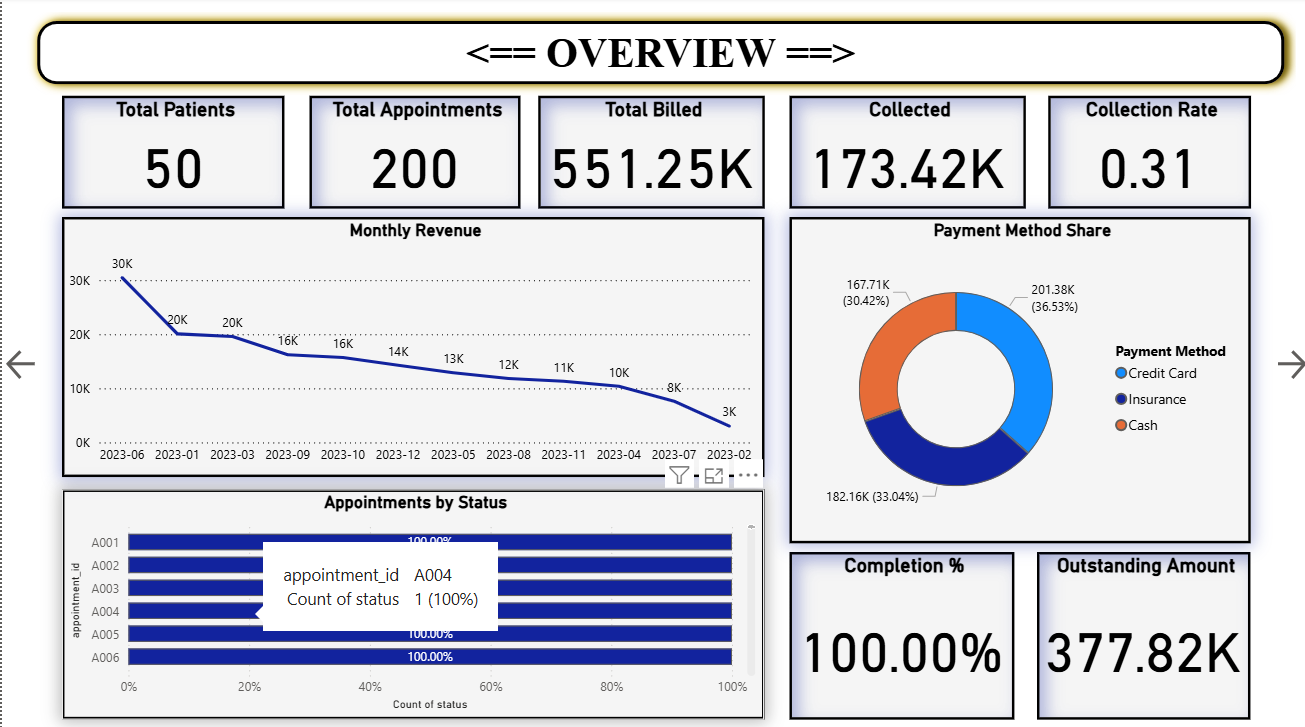

This screenshot's page, from the dashboard's own definition file:
{"tool":"powerbi","page":{"name":"Overview","canvas":[1280,720],"ordinal":1},"visuals":[{"type":"card","title":"Total Patients","fields":{"Values":["measurse.Total Patients"]},"box":[58.7,96.6,217.7,110.1],"z":0},{"type":"card","title":"Total Appointments","fields":{"Values":["measurse.Total Appointments"]},"box":[300.8,96.6,206.7,110.1],"z":1000},{"type":"card","title":"Completion %","fields":{"Values":["measurse.Completed Appointments"]},"box":[770.4,542.9,220.1,163.9],"z":2000},{"type":"card","title":"Total Billed","fields":{"Values":["measurse.Total Billed"]},"box":[524.6,96.6,221.3,110.1],"z":3000},{"type":"card","title":"Collected","fields":{"Values":["measurse.Total Collected"]},"box":[770.4,96.6,231.1,110.1],"z":4000},{"type":"card","title":"Outstanding Amount","fields":{"Values":["measurse.Outstanding Amount"]},"box":[1012.5,542.9,209.1,163.9],"z":5000},{"type":"card","title":"Collection Rate","fields":{"Values":["measurse.Collection Rate"]},"box":[1023.5,96.6,198.1,110.1],"z":6000},{"type":"lineChart","title":"Monthly Revenue","fields":{"Category":["Date.YearMonth"],"Y":["measurse.Total Collected"]},"box":[58.7,215.2,687.2,254.3],"z":7000},{"type":"donutChart","title":"Payment Method Share","fields":{"Category":["billing.payment_method"],"Y":["Sum(billing.amount)"]},"box":[770.4,215.2,451.2,319.2],"z":8000},{"type":"hundredPercentStackedBarChart","title":"Appointments by Status","fields":{"Y":["CountNonNull(appointments.status)"],"Category":["appointments.appointment_id"]},"box":[58.7,481.8,687.2,225],"z":9000},{"type":"shape","box":[23.2,12.2,1242.4,84.4],"z":10000},{"type":"actionButton","box":[1242.4,298.4,37.9,122.3],"z":11000},{"type":"actionButton","box":[0,298.4,37.9,122.3],"z":12000}]}

Visuals, with their boxes in screenshot pixels (x1, y1, x2, y2), scaled from the page's 1280x720 canvas onto the 1305x727 screenshot:
"Total Patients" card: bbox(60, 98, 282, 209)
"Total Appointments" card: bbox(307, 98, 517, 209)
"Completion %" card: bbox(785, 548, 1010, 714)
"Total Billed" card: bbox(535, 98, 760, 209)
"Collected" card: bbox(785, 98, 1021, 209)
"Outstanding Amount" card: bbox(1032, 548, 1245, 714)
"Collection Rate" card: bbox(1043, 98, 1245, 209)
"Monthly Revenue" lineChart: bbox(60, 217, 760, 474)
"Payment Method Share" donutChart: bbox(785, 217, 1245, 540)
"Appointments by Status" hundredPercentStackedBarChart: bbox(60, 486, 760, 714)
shape: bbox(24, 12, 1290, 98)
actionButton: bbox(1267, 301, 1304, 425)
actionButton: bbox(0, 301, 39, 425)
